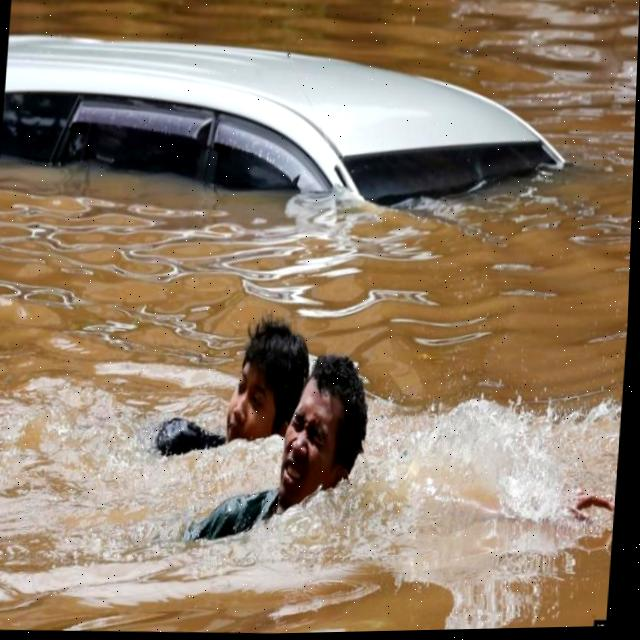civilian: (184, 342, 378, 561), (140, 298, 328, 482)
